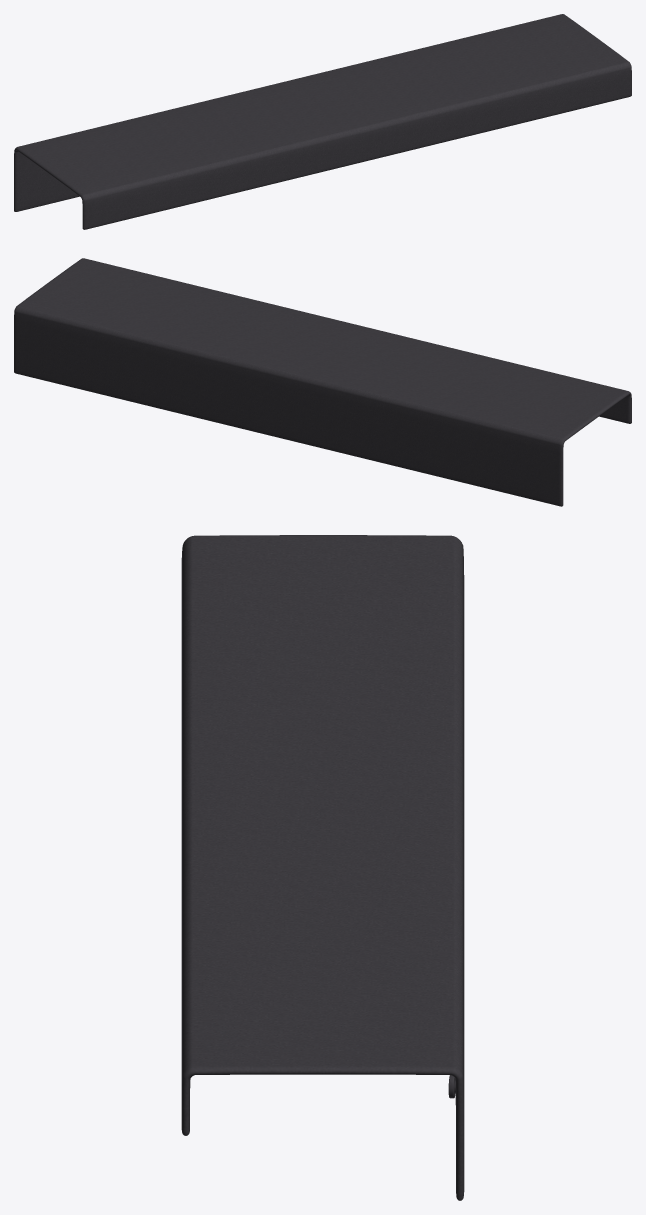
File: bookshelf_B07B8PXQ1Q.glb
3 views of the same model, one above another, from view 1: azimuth 30°, elevation 25°; view 2: azimuth 150°, elevation 25°; view 3: azimuth 270°, elevation 25° (orthographic). The views are drawn at different scales.
Visible parts, largest first — view 1: RootNode; view 2: RootNode; view 3: RootNode.
Boxes of the visible parts, box(x1,y1,x2,y2) form: RootNode: box(14, 14, 631, 229); RootNode: box(14, 258, 631, 506); RootNode: box(181, 535, 464, 1200).
Bounding box in the file's own units: 0.4558 × 0.0529 × 0.1016.
Materials: 1 (1 with a texture image).
